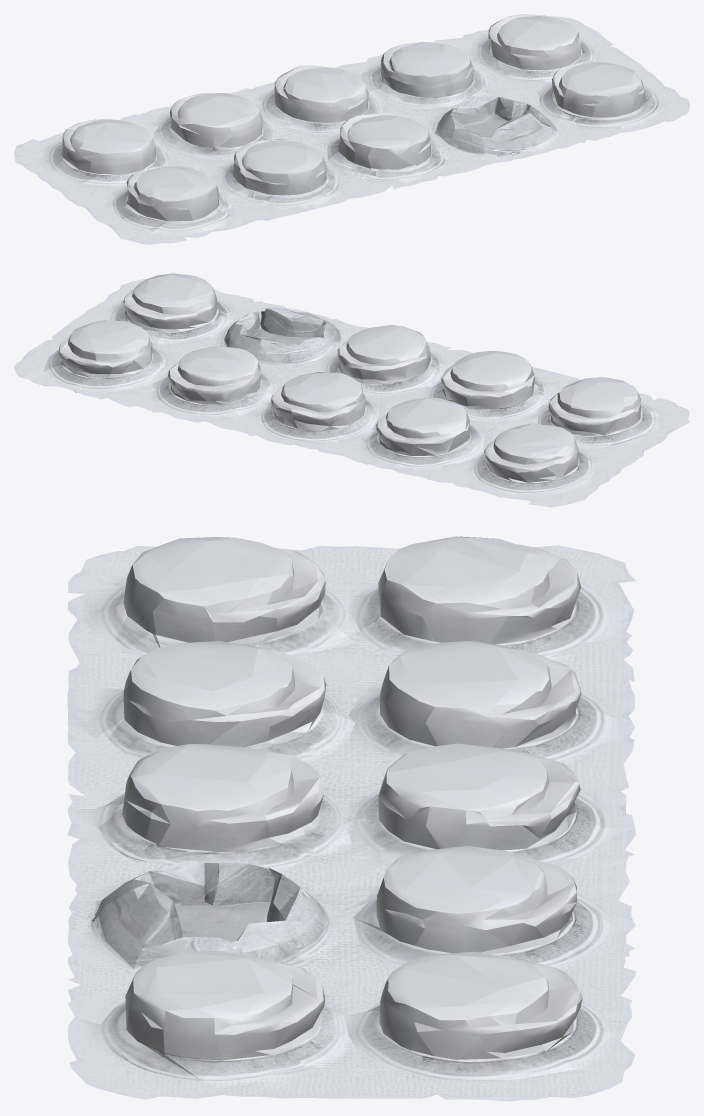
Rendered from w51pills.glb.
3 views of the same model, one above another, from view 1: azimuth 30°, elevation 25°; view 2: azimuth 150°, elevation 25°; view 3: azimuth 270°, elevation 25° (orthographic). The views are drawn at different scales.
Parts seen in each view (by area): view 1: output_unwrapped; view 2: output_unwrapped; view 3: output_unwrapped.
Part boxes in pixels (<box>): output_unwrapped: <box>14,14,689,244</box>; output_unwrapped: <box>14,273,689,507</box>; output_unwrapped: <box>67,536,635,1101</box>.
Size of the model in its own units: 0.1 by 0.00518 by 0.0433.
1 material, 1 textured.
